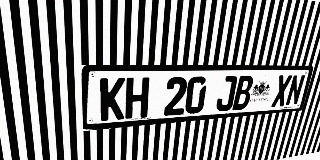0: (184, 76, 208, 114)
2: (164, 77, 188, 116)
B: (232, 76, 254, 110)
H: (125, 77, 150, 119)
J: (215, 76, 238, 112)
K: (100, 78, 125, 121)
N: (285, 75, 306, 106)
X: (271, 75, 292, 107)
